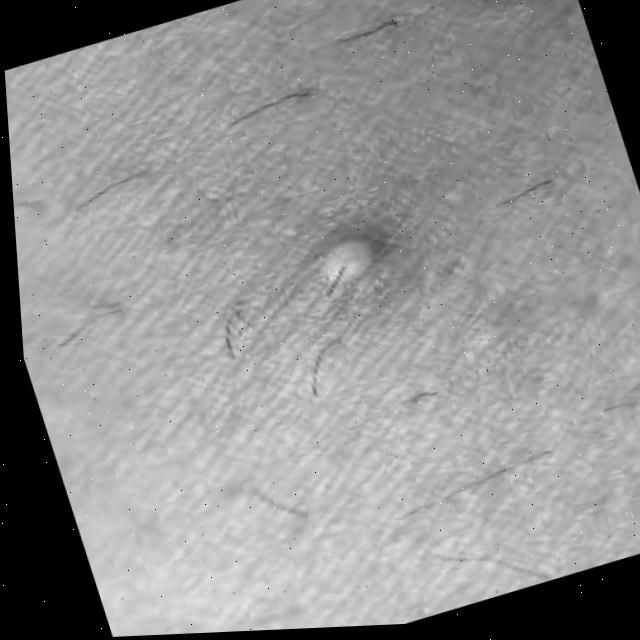Acne: (297, 194, 427, 298)
